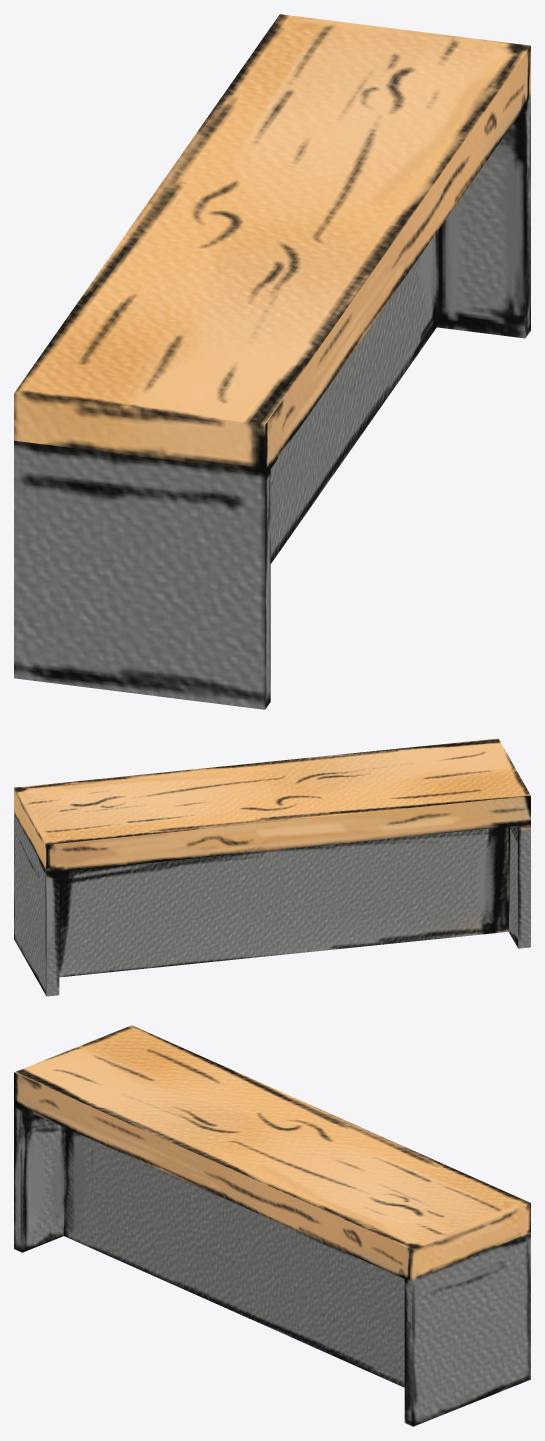
File: furniture_kitchen_island.glb
3 renders of one model, top to bottom at view 1: azimuth 30°, elevation 25°; view 2: azimuth 150°, elevation 25°; view 3: azimuth 270°, elevation 25°, orthographic. The views are drawn at different scales.
Visible parts, largest first — view 1: kitchen_island; view 2: kitchen_island; view 3: kitchen_island.
Boxes of the visible parts, left/top/right/bottom form: kitchen_island: left=14, top=14, right=530, bottom=709; kitchen_island: left=14, top=738, right=530, bottom=996; kitchen_island: left=14, top=1025, right=530, bottom=1426.
Size of the model in its own units: 0.1749 by 0.064 by 0.1698.
Materials: 1 (1 with a texture image).
